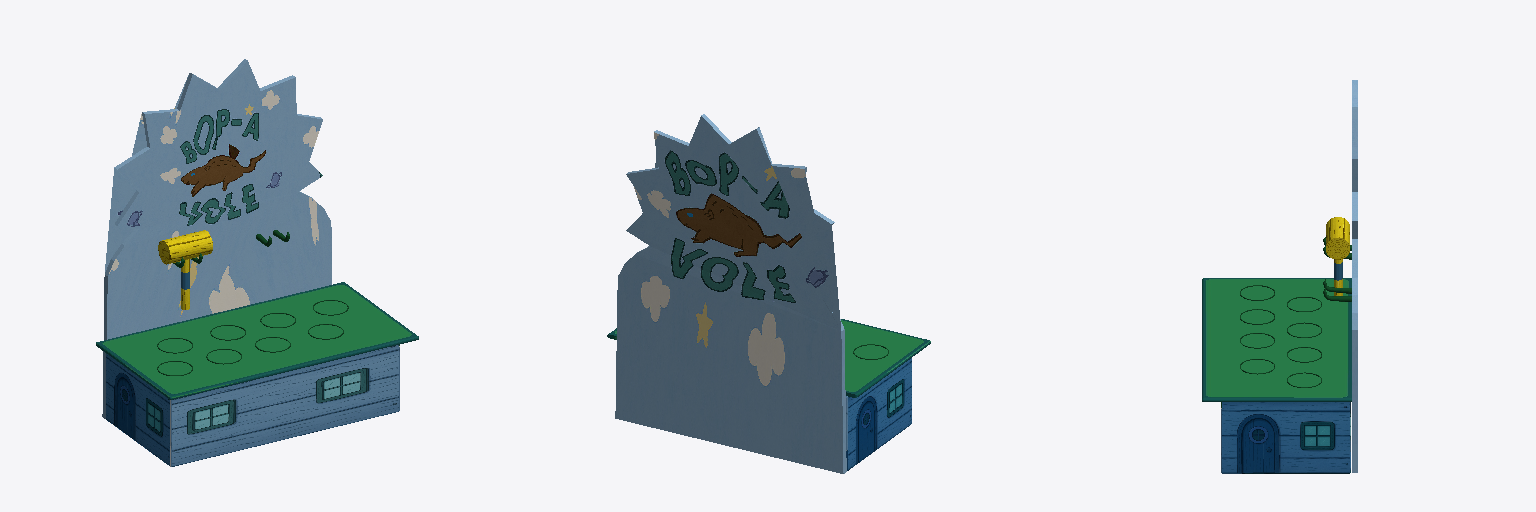
3 renders of one model, left to right at view 1: azimuth 30°, elevation 25°; view 2: azimuth 150°, elevation 25°; view 3: azimuth 270°, elevation 25°, orthographic.
Visible parts, largest first — view 1: Tablero, cajon, mesa, mazo1; view 2: Tablero, cajon, mesa; view 3: mesa, cajon, Tablero, mazo1.
Boxes of the visible parts, <box> form: Tablero: <box>102,59,331,418</box>; cajon: <box>106,300,399,466</box>; mesa: <box>96,282,418,399</box>; mazo1: <box>158,230,212,264</box>; Tablero: <box>615,114,846,473</box>; cajon: <box>846,344,911,470</box>; mesa: <box>607,319,930,397</box>; mesa: <box>1202,278,1351,401</box>; cajon: <box>1221,285,1350,473</box>; Tablero: <box>1352,80,1357,472</box>; mazo1: <box>1326,217,1349,259</box>.
Size of the model in its own units: 6.48 by 8.04 by 3.51.
Materials: 5 (5 with a texture image).